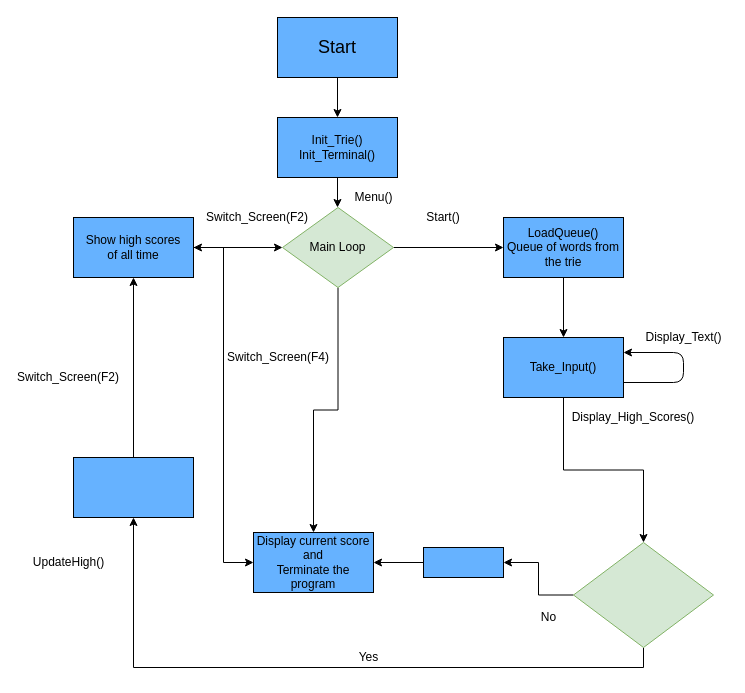
This 745x693 diagram has some shape labels left out. The centre of each missing label's shape, as x and y in pixels:
Ask user for username entry and upgrade statistics: point 133,487
Show high scores: point 463,562
User_Score > Least HIgh_Score ?: point 643,595
